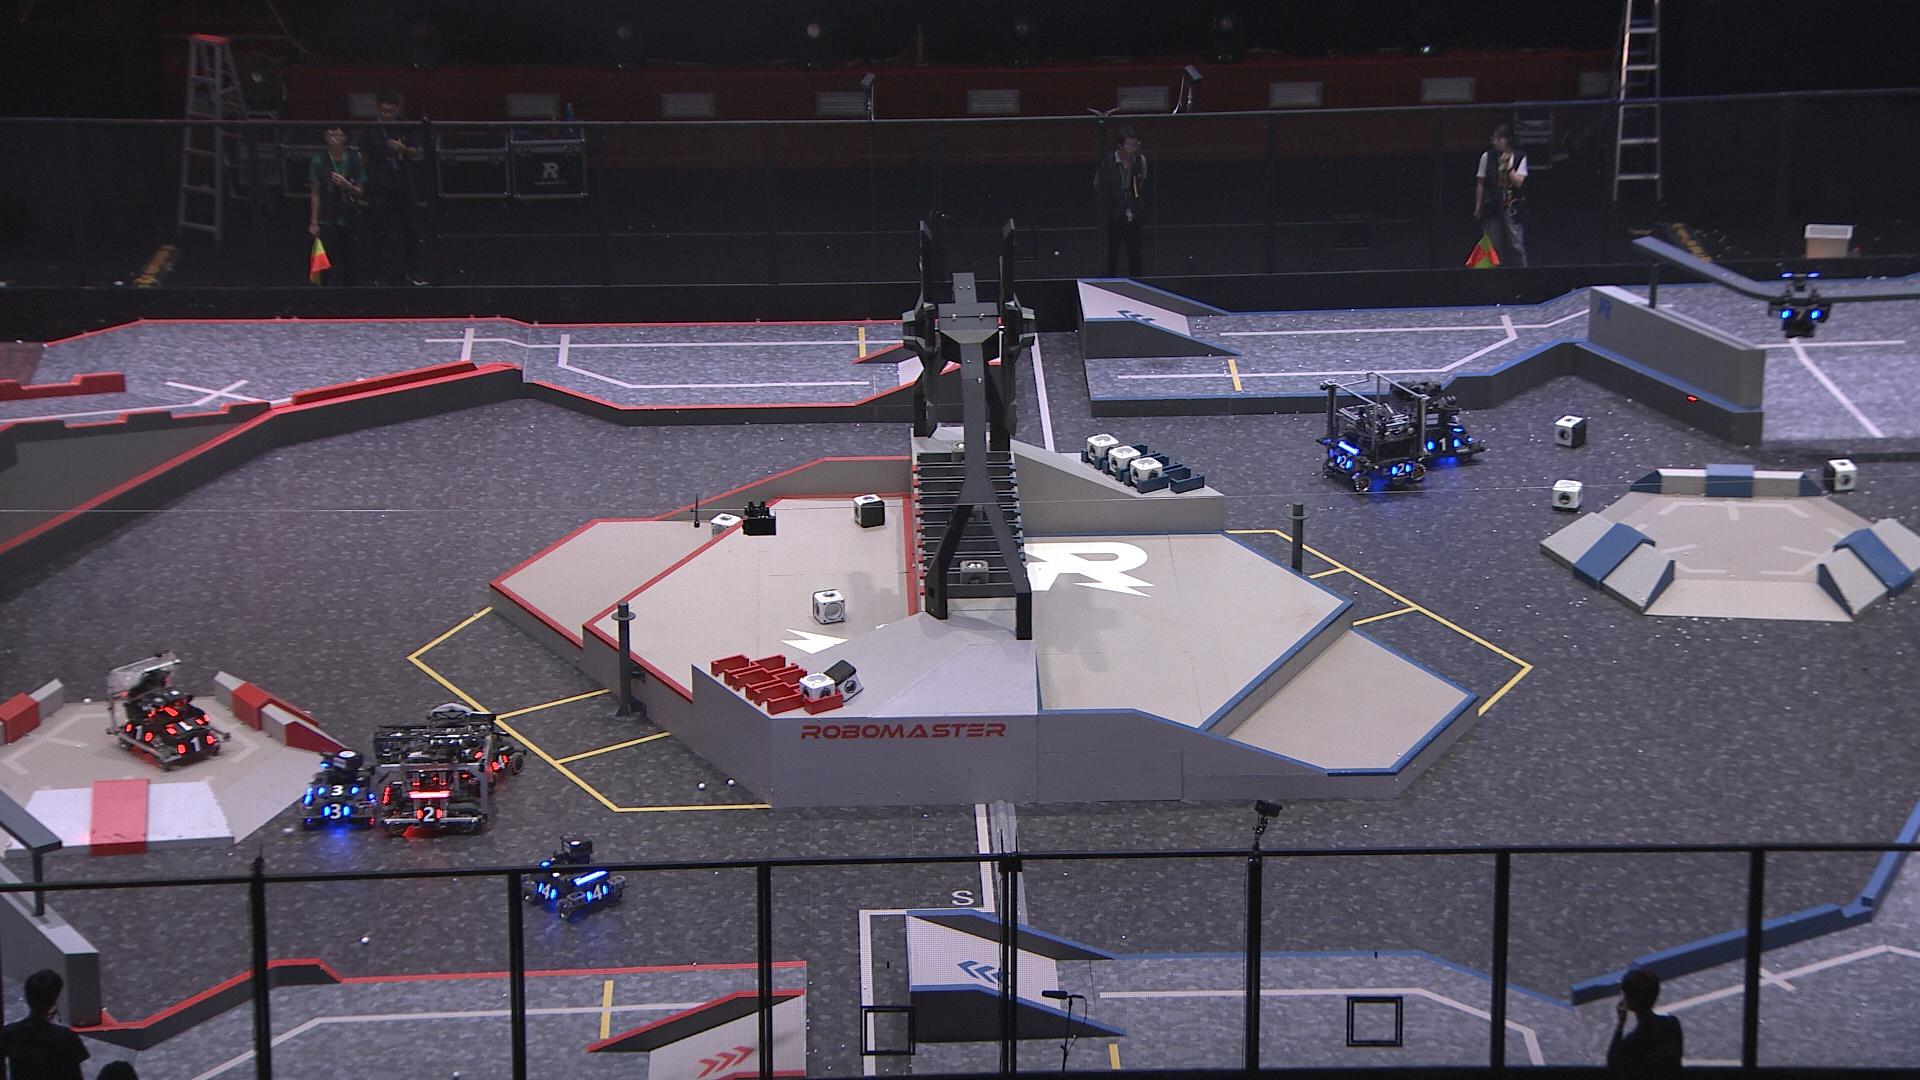armor: (177, 735, 215, 754), (1780, 309, 1825, 324), (123, 723, 156, 744), (164, 717, 206, 733), (415, 806, 446, 825), (1427, 438, 1462, 454), (323, 803, 353, 822), (316, 785, 357, 798), (537, 880, 560, 902), (584, 884, 611, 903), (1389, 462, 1415, 477), (489, 754, 512, 773), (1333, 452, 1354, 469), (1448, 419, 1465, 434)
car: (371, 713, 500, 837), (105, 651, 233, 774), (1315, 373, 1428, 496), (517, 836, 626, 922), (425, 700, 529, 787), (1385, 378, 1487, 465), (297, 750, 381, 827)
watcher: (1764, 270, 1832, 339)
